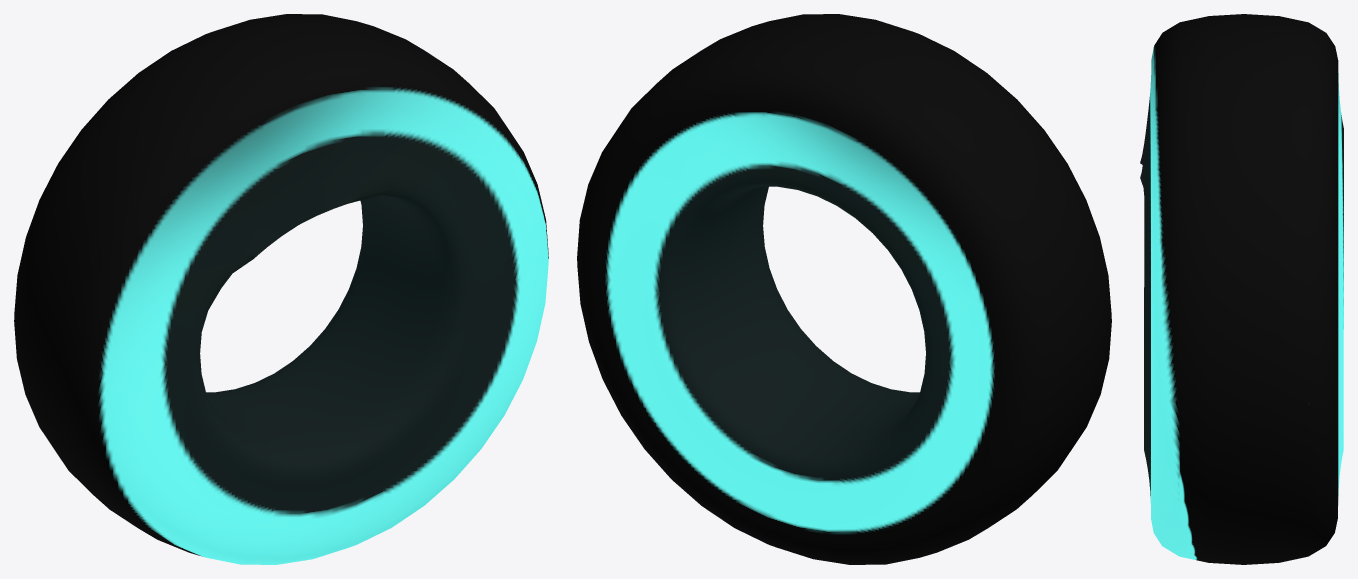
Rendered from Back_Wheel.fbx.
3 views of the same model, side by side, from view 1: azimuth 30°, elevation 25°; view 2: azimuth 150°, elevation 25°; view 3: azimuth 270°, elevation 25° (orthographic).
Parts seen in each view (by area): view 1: Front_Wheel2; view 2: Front_Wheel2; view 3: Front_Wheel2.
Part boxes in pixels (left/top/right/bottom): Front_Wheel2: left=14, top=14, right=548, bottom=564; Front_Wheel2: left=577, top=14, right=1111, bottom=564; Front_Wheel2: left=1140, top=14, right=1343, bottom=564.
Bounding box in the file's own units: 14.35 × 14.34 × 5.31.
